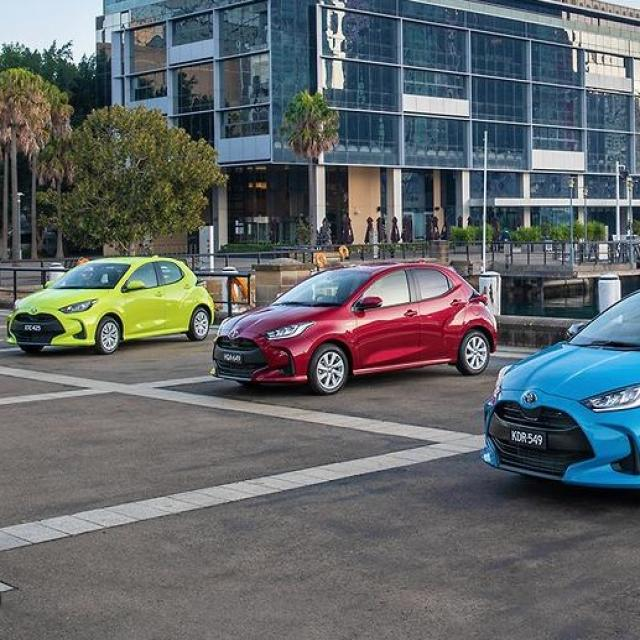car: (212, 260, 500, 394), (486, 290, 640, 490), (8, 256, 213, 356)
